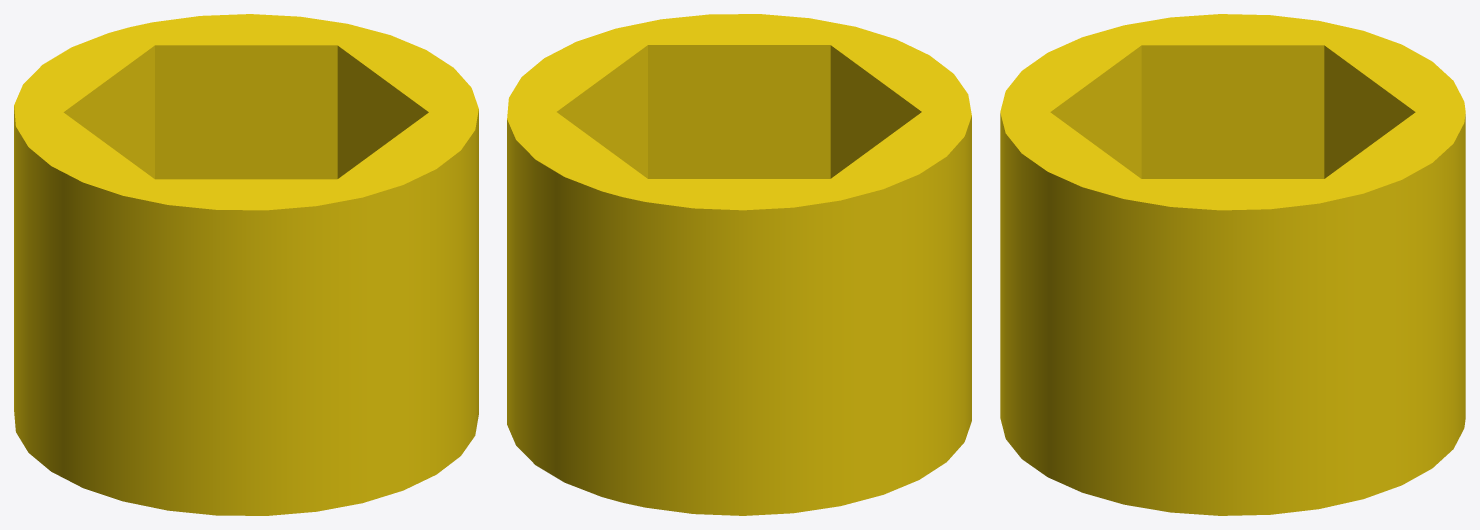
File: A26_S114_hexSpacer.gltf
3 views of the same model, side by side, from view 1: azimuth 30°, elevation 25°; view 2: azimuth 150°, elevation 25°; view 3: azimuth 270°, elevation 25° (orthographic).
Parts seen in each view (by area): view 1: mesh35724, mesh35726, mesh35728, mesh35727, mesh35729; view 2: mesh35724, mesh35726, mesh35732, mesh35731, mesh35727; view 3: mesh35724, mesh35726, mesh35730, mesh35729, mesh35731.
Part boxes in pixels (bbox=[...]): mesh35724: bbox=[14, 106, 478, 515]; mesh35726: bbox=[14, 14, 478, 210]; mesh35728: bbox=[155, 45, 337, 179]; mesh35727: bbox=[337, 46, 428, 178]; mesh35729: bbox=[63, 45, 154, 178]; mesh35724: bbox=[507, 116, 971, 515]; mesh35726: bbox=[507, 14, 971, 210]; mesh35732: bbox=[648, 45, 830, 178]; mesh35731: bbox=[830, 45, 921, 178]; mesh35727: bbox=[557, 45, 647, 178]; mesh35724: bbox=[1000, 113, 1465, 515]; mesh35726: bbox=[1000, 14, 1465, 210]; mesh35730: bbox=[1141, 45, 1324, 178]; mesh35729: bbox=[1324, 45, 1415, 178]; mesh35731: bbox=[1050, 45, 1141, 178].
Bounding box in the file's own units: 0.019 × 0.0138 × 0.0191.
